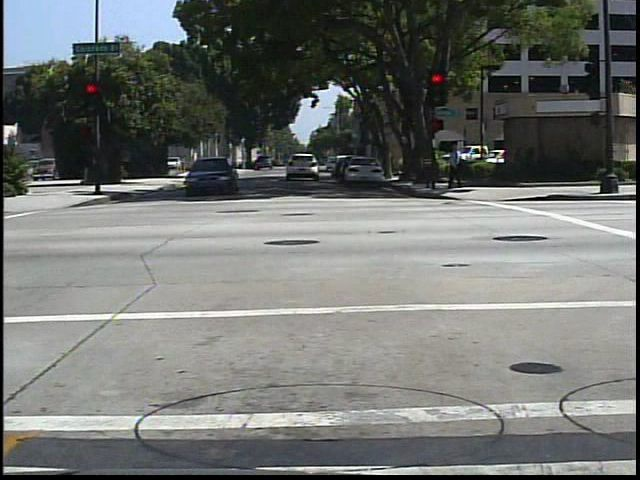person: (445, 139, 467, 191)
